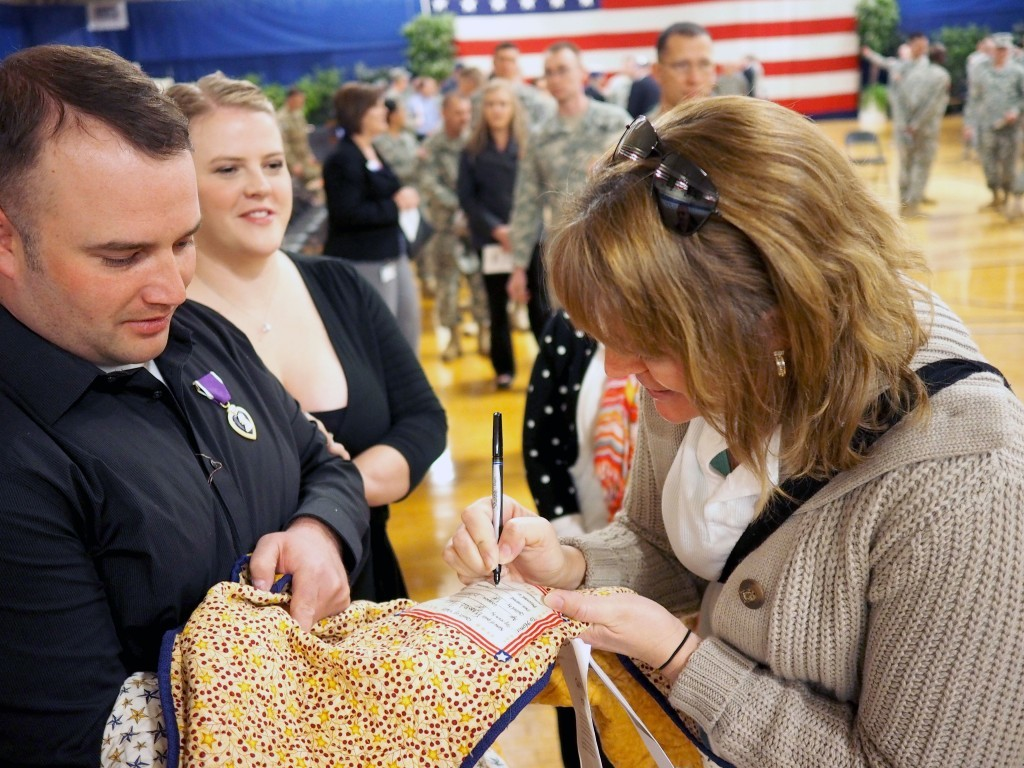face: (3, 43, 203, 383), (550, 218, 752, 443), (201, 38, 298, 275)
